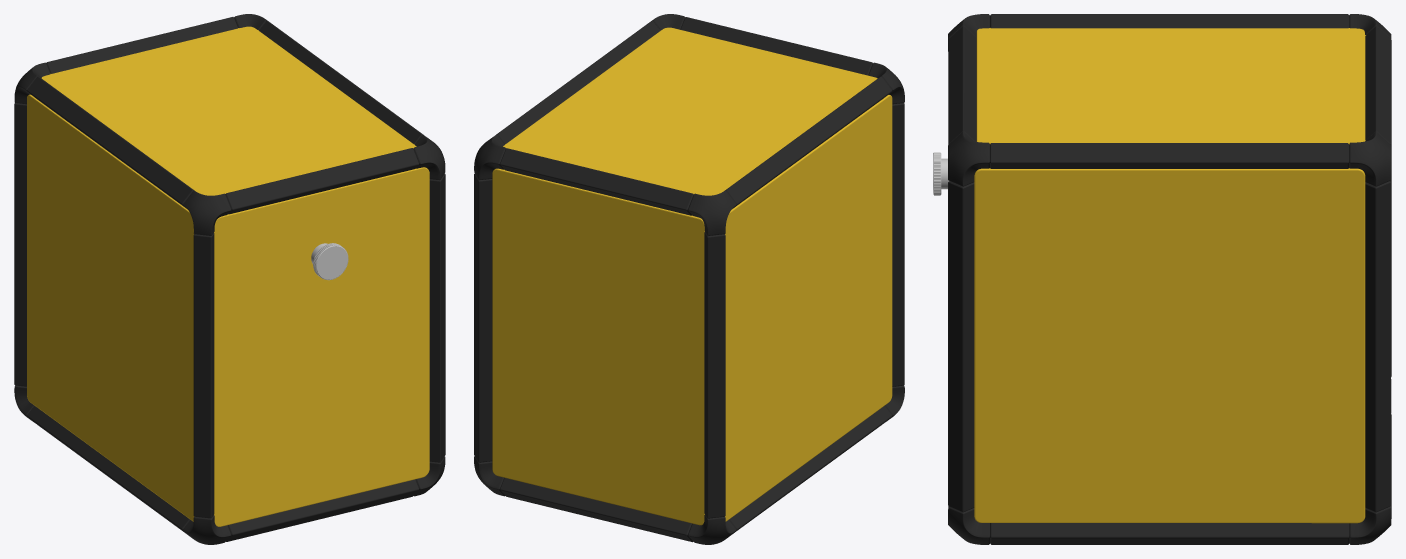
The picture shows the model from 3 angles, left to right: view 1: azimuth 30°, elevation 25°; view 2: azimuth 150°, elevation 25°; view 3: azimuth 270°, elevation 25°; orthographic projection. The views are drawn at different scales.
Visible parts, largest first — view 1: 229x329x329; view 2: 229x329x329; view 3: 229x329x329.
Boxes of the visible parts, x1=… form: 229x329x329: x1=14, y1=14, x2=445, y2=544; 229x329x329: x1=474, y1=14, x2=904, y2=544; 229x329x329: x1=933, y1=14, x2=1391, y2=544.
Size of the model in its own units: 0.3067 by 0.4066 by 0.4196.
